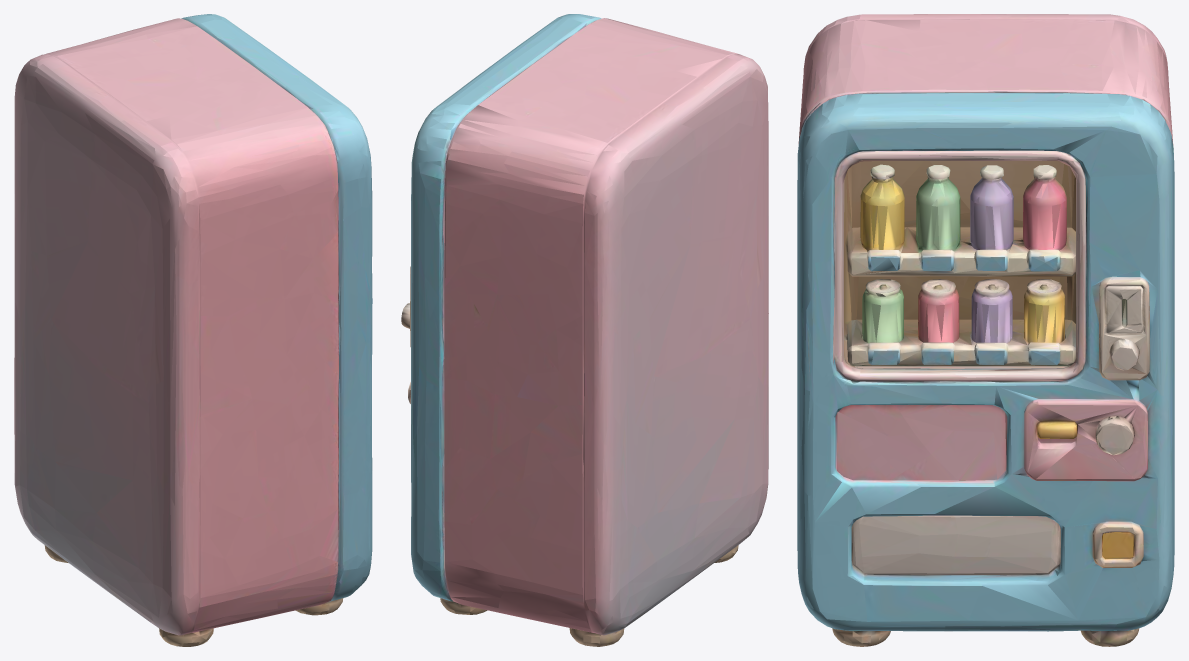
3 views of the same model, side by side, from view 1: azimuth 30°, elevation 25°; view 2: azimuth 150°, elevation 25°; view 3: azimuth 270°, elevation 25° (orthographic). The views are drawn at different scales.
Parts seen in each view (by area): view 1: F10-retro-vending; view 2: F10-retro-vending; view 3: F10-retro-vending.
Part boxes in pixels (x1,y1,x2,y2): F10-retro-vending: [14, 14, 372, 646]; F10-retro-vending: [401, 14, 768, 646]; F10-retro-vending: [797, 14, 1174, 646].
Bounding box in the file's own units: 1.11 × 2.4 × 1.51.
1 material, 1 textured.
